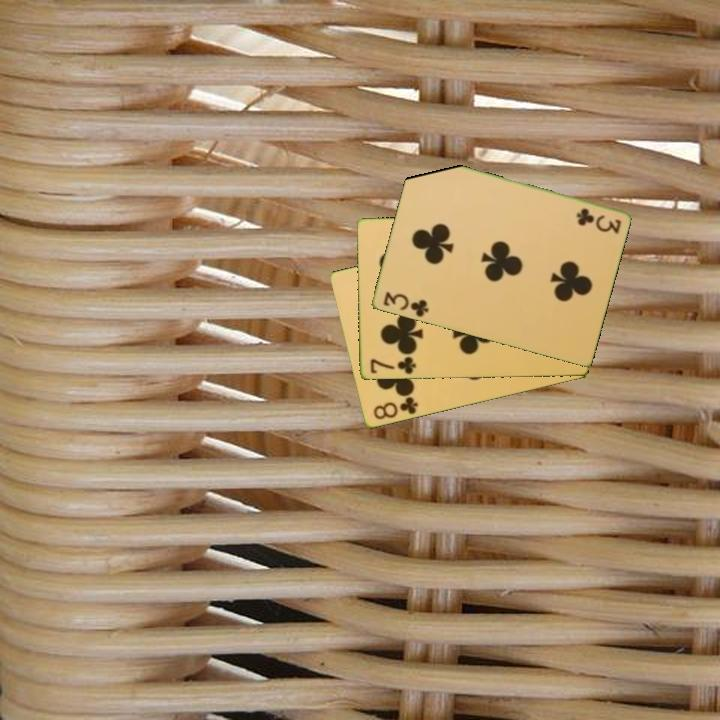3c: (379, 288, 431, 320), (572, 205, 624, 236)
7c: (367, 353, 418, 377)
8c: (370, 393, 421, 423)
